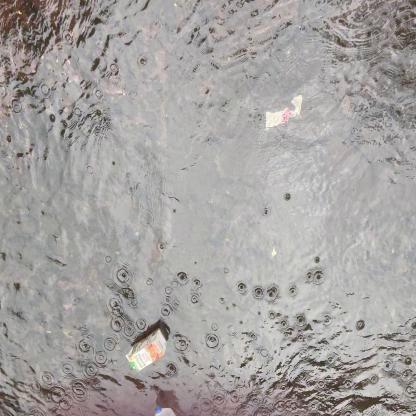Plastic: (262, 89, 308, 133), (150, 404, 178, 416)
